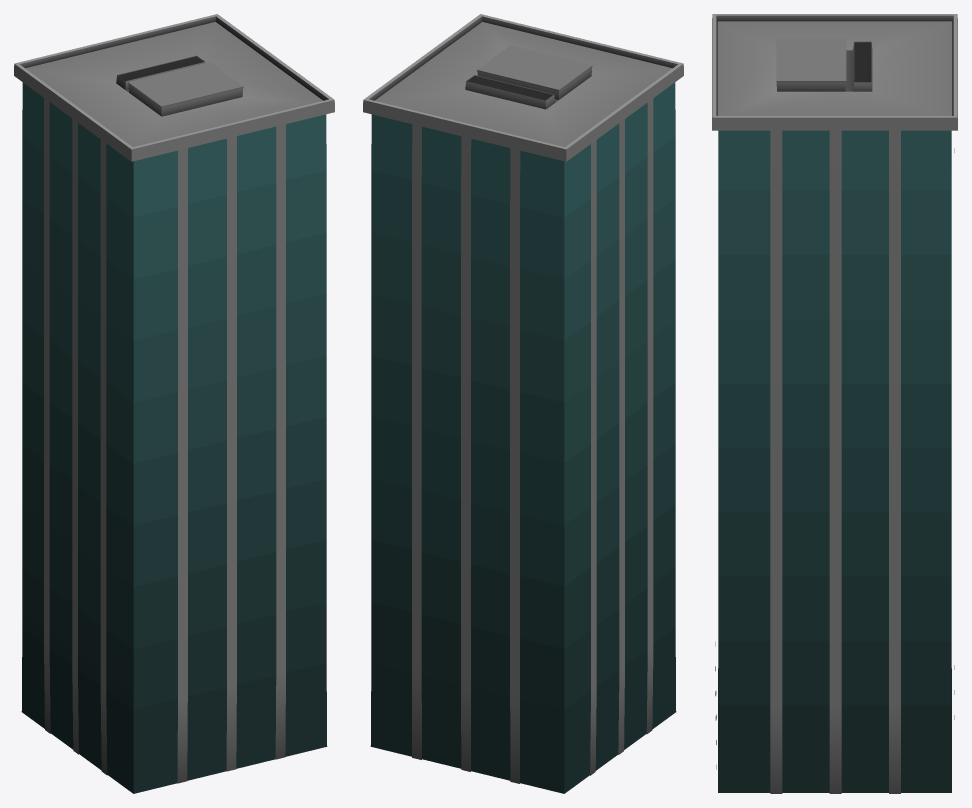
The model's file is buildings-industrial-traditionalskyscraper_v3.glb.
3 views of the same model, side by side, from view 1: azimuth 30°, elevation 25°; view 2: azimuth 150°, elevation 25°; view 3: azimuth 270°, elevation 25° (orthographic). The views are drawn at different scales.
Visible parts, largest first — view 1: TraditionalSkyscraper_v3_windowRefl, TraditionalSkyscraper_v3_base; view 2: TraditionalSkyscraper_v3_windowRefl, TraditionalSkyscraper_v3_base; view 3: TraditionalSkyscraper_v3_windowRefl, TraditionalSkyscraper_v3_base.
Part boxes in pixels (box(x1,y1,x2,y2)): TraditionalSkyscraper_v3_windowRefl: box(21, 82, 327, 793); TraditionalSkyscraper_v3_base: box(14, 14, 334, 783); TraditionalSkyscraper_v3_windowRefl: box(370, 82, 676, 793); TraditionalSkyscraper_v3_base: box(363, 14, 683, 783); TraditionalSkyscraper_v3_windowRefl: box(718, 130, 951, 792); TraditionalSkyscraper_v3_base: box(712, 14, 957, 793).
Size of the model in its own units: 21.78 by 66.86 by 21.78.
